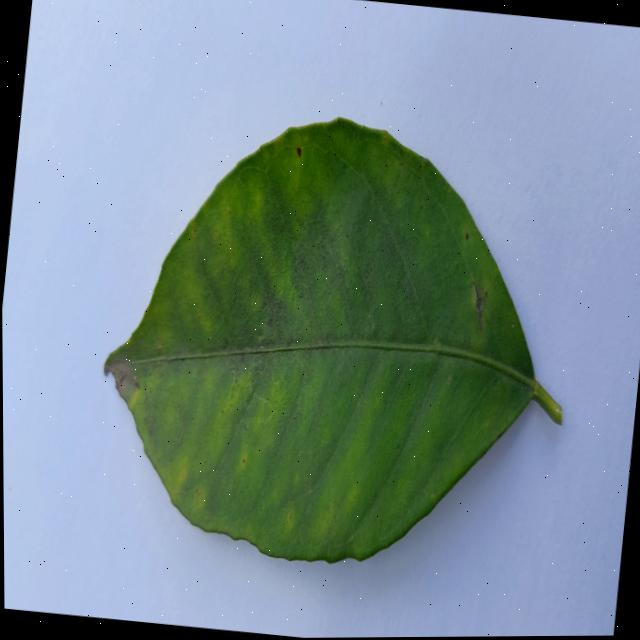greening: (105, 118, 562, 561)
